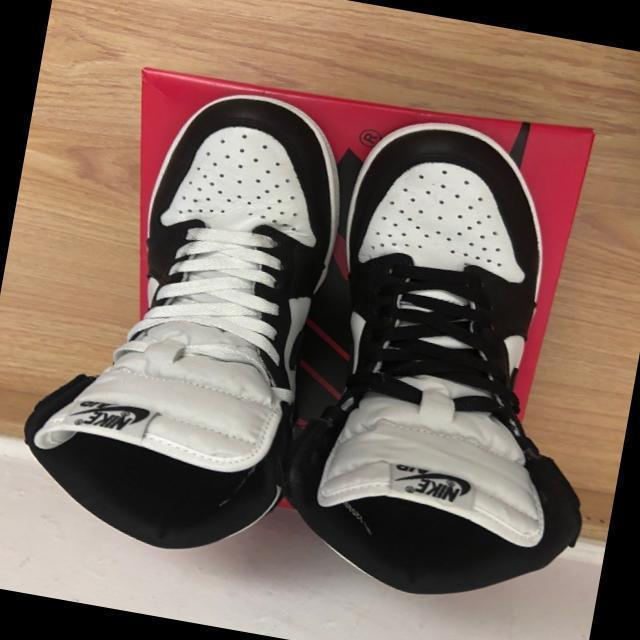nike original jordan 1: (279, 105, 640, 618), (7, 64, 363, 570)
